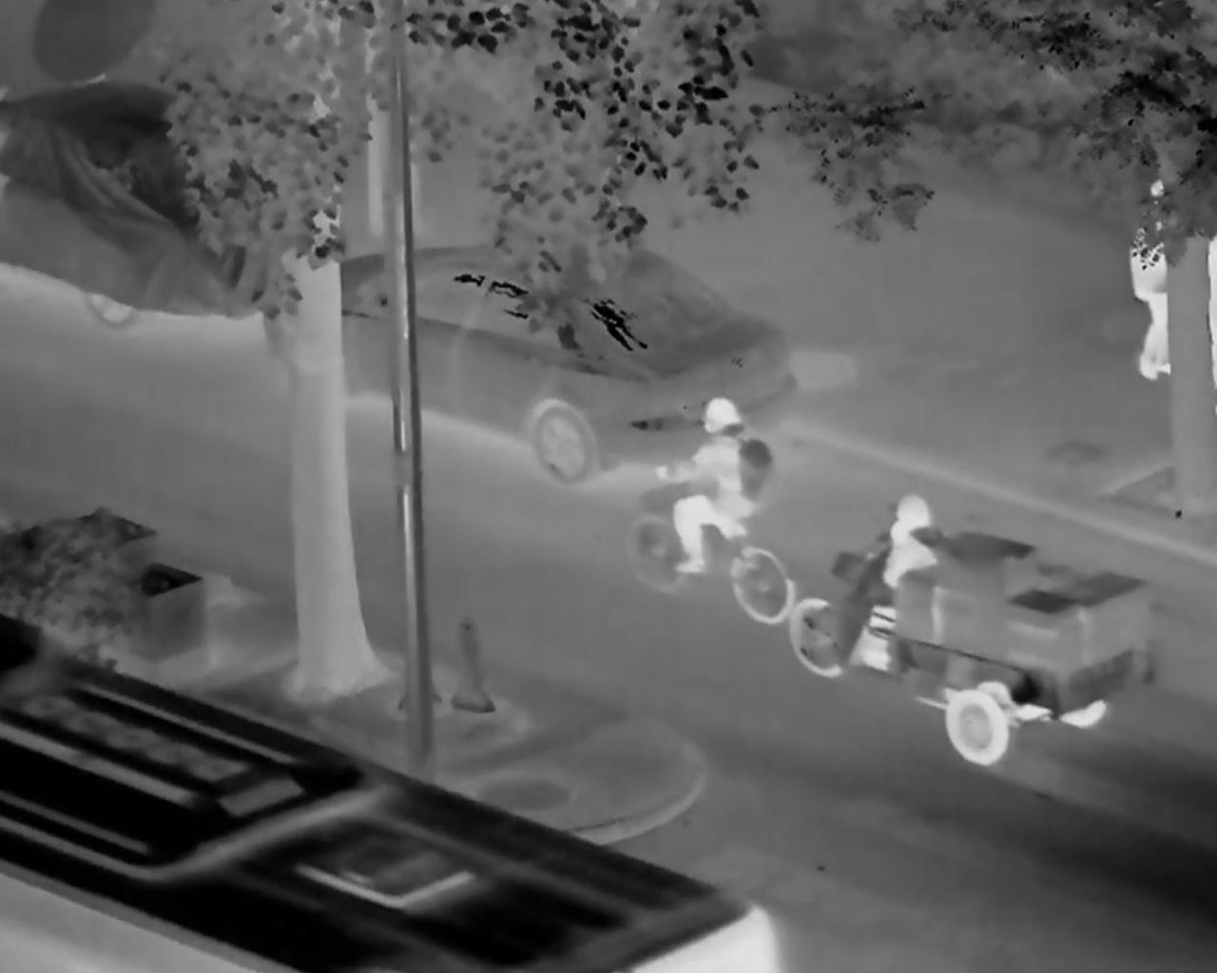person: (654, 398, 773, 577), (848, 495, 940, 649), (1129, 179, 1190, 378)
